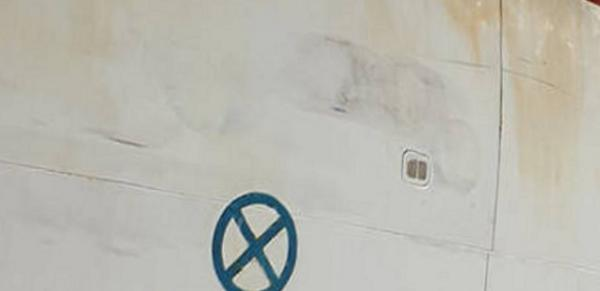rust: (10, 8, 140, 109), (513, 57, 585, 218), (448, 4, 531, 52)
